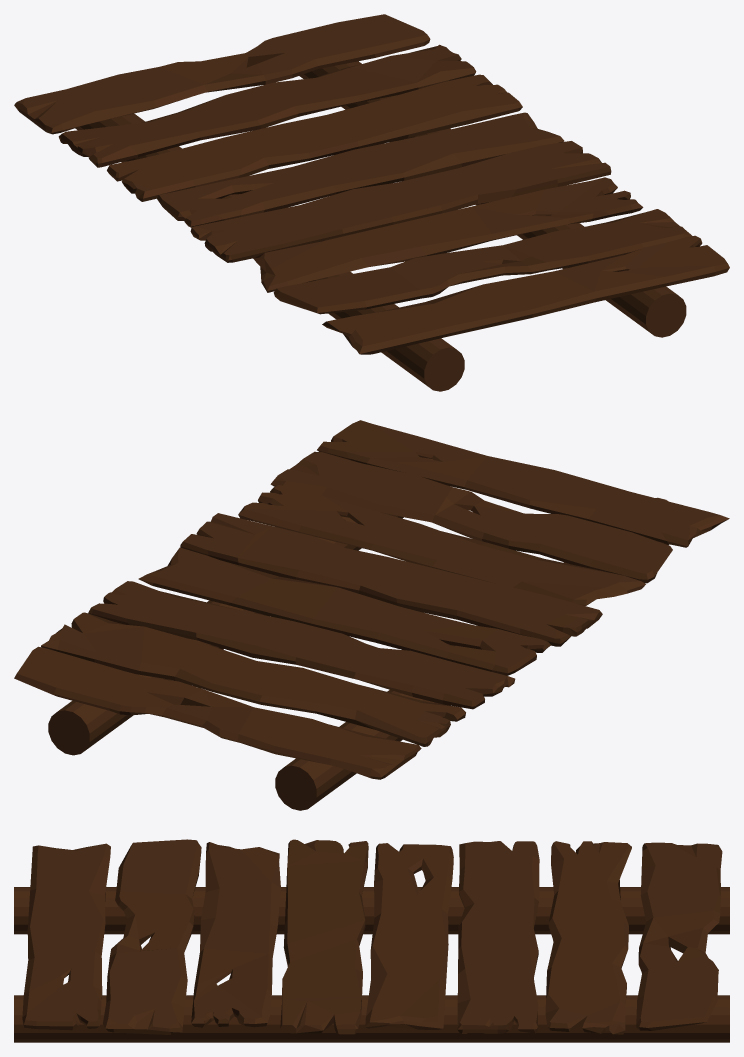
Rendered from BridgePlatform.fbx.
3 views of the same model, one above another, from view 1: azimuth 30°, elevation 25°; view 2: azimuth 150°, elevation 25°; view 3: azimuth 270°, elevation 25° (orthographic). The views are drawn at different scales.
Parts seen in each view (by area): view 1: Planks.Front.002, Bridg.001; view 2: Planks.Front.002, Bridg.001; view 3: Planks.Front.002, Bridg.001.
Boxes of the visible parts, bbox=[...] form: Planks.Front.002: bbox=[14, 14, 729, 354]; Bridg.001: bbox=[75, 61, 686, 391]; Planks.Front.002: bbox=[14, 420, 729, 779]; Bridg.001: bbox=[48, 458, 669, 810]; Planks.Front.002: bbox=[22, 839, 722, 1034]; Bridg.001: bbox=[14, 887, 729, 1042].
Bounding box in the file's own units: 3.42 × 0.483 × 5.53.
